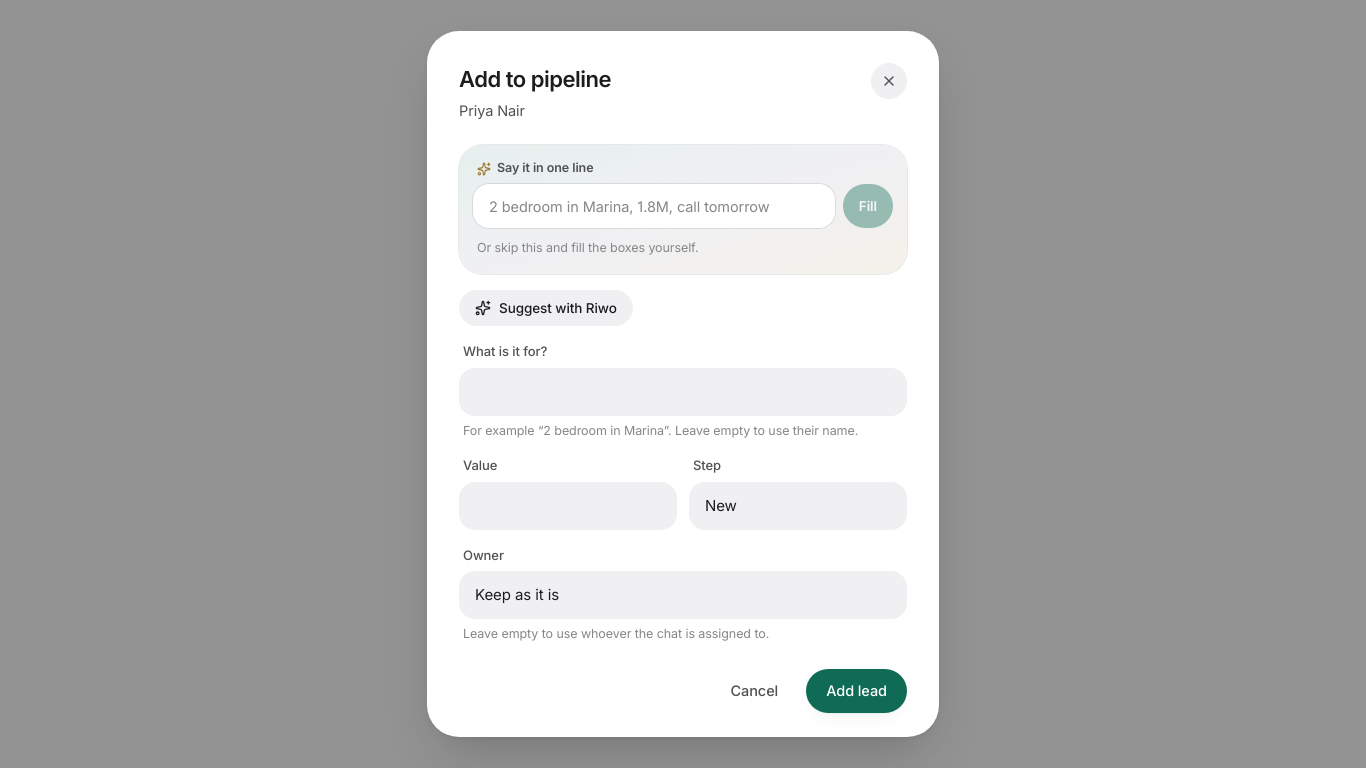
Test: adding a lead › doesn't offer Riwo when it isn't available, and says when it couldn't help
Click the button "Suggest with Riwo".
click(546, 308)  # box 459,290 -> 633,326
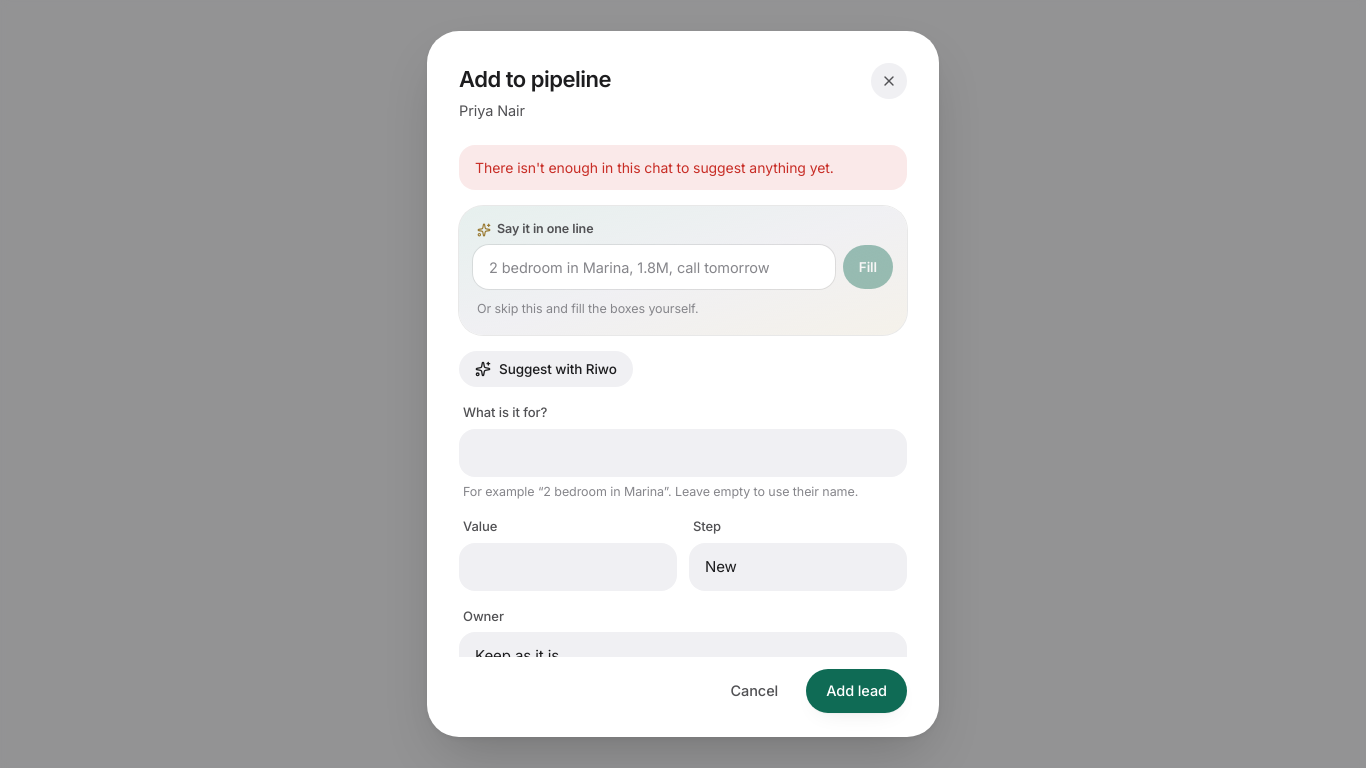
expect the message shows "There isn't enough in this chat": met, box 475,160 -> 834,176
